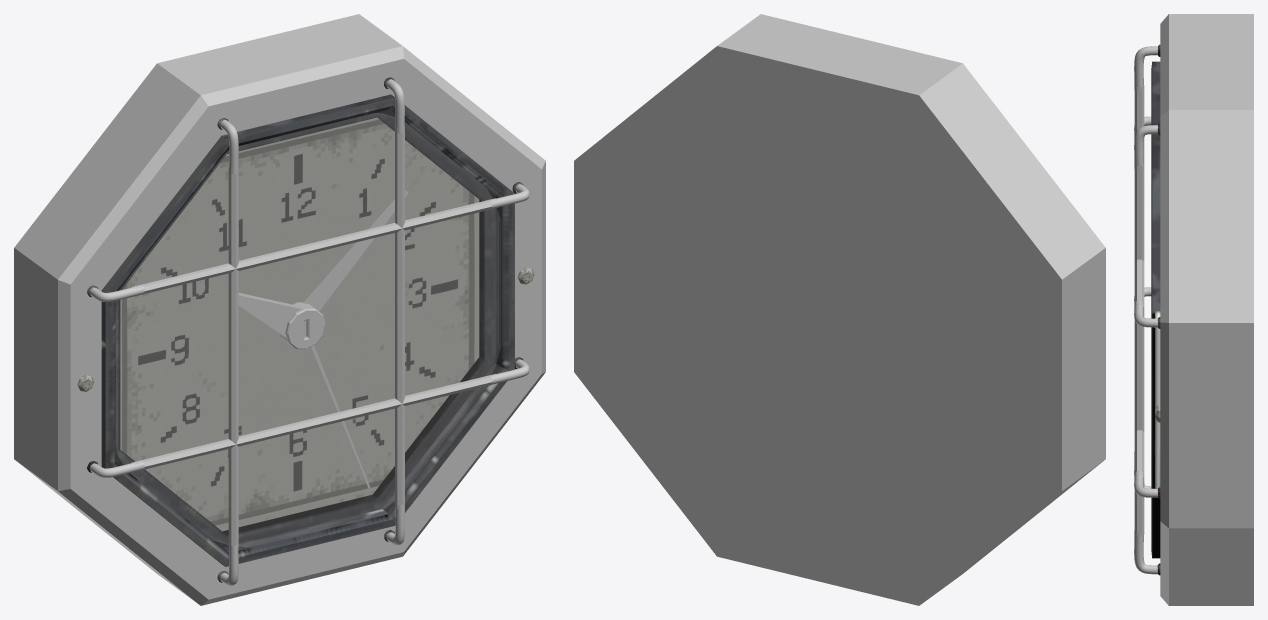
File: Clock.fbx
3 renders of one model, left to right at view 1: azimuth 30°, elevation 25°; view 2: azimuth 150°, elevation 25°; view 3: azimuth 270°, elevation 25°, orthographic. The views are drawn at different scales.
Visible parts, largest first — view 1: clock_glass, ClockFace, Clock_Case, Clock_FrontRim, Bars, BézierCurve.001, Minute_Hand, HourHand, MiddleClock; view 2: Clock_Case; view 3: Clock_Case, Clock_FrontRim, Bars, BézierCurve.001, WeldPoints.
Boxes of the visible parts, left/top/right/bottom form: clock_glass: left=116, top=113, right=500, bottom=546; ClockFace: left=120, top=117, right=479, bottom=531; Clock_Case: left=14, top=14, right=545, bottom=605; Clock_FrontRim: left=101, top=94, right=514, bottom=566; Bars: left=131, top=126, right=497, bottom=549; BézierCurve.001: left=89, top=79, right=529, bottom=585; Minute_Hand: left=303, top=190, right=408, bottom=311; HourHand: left=228, top=293, right=306, bottom=337; MiddleClock: left=279, top=302, right=325, bottom=349; Clock_Case: left=574, top=14, right=1105, bottom=605; Clock_Case: left=1160, top=14, right=1253, bottom=605; Clock_FrontRim: left=1151, top=61, right=1160, bottom=558; Bars: left=1134, top=85, right=1144, bottom=536; BézierCurve.001: left=1134, top=46, right=1158, bottom=574; WeldPoints: left=1157, top=44, right=1160, bottom=575.
Bounding box in the file's own units: 57.28 × 57.28 × 12.53.
